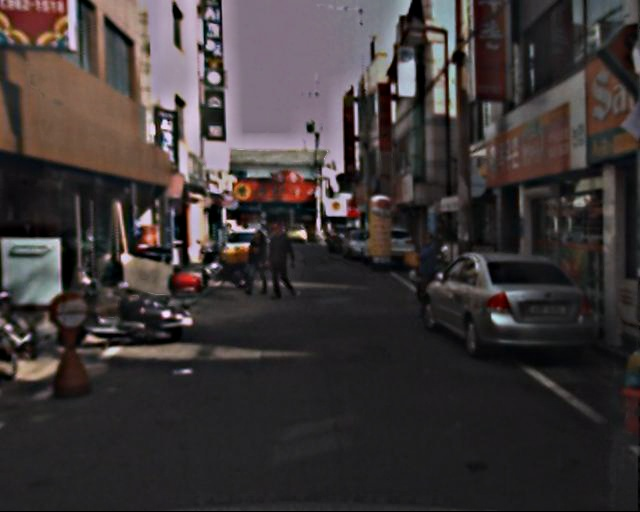person: (414, 228, 445, 318), (269, 217, 301, 304), (247, 224, 275, 297)
